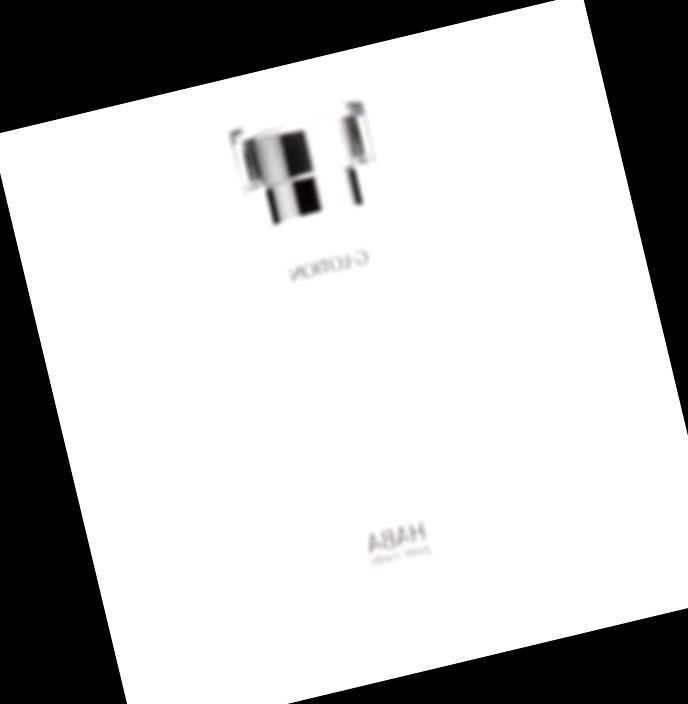cosmetic: (218, 95, 491, 650)
